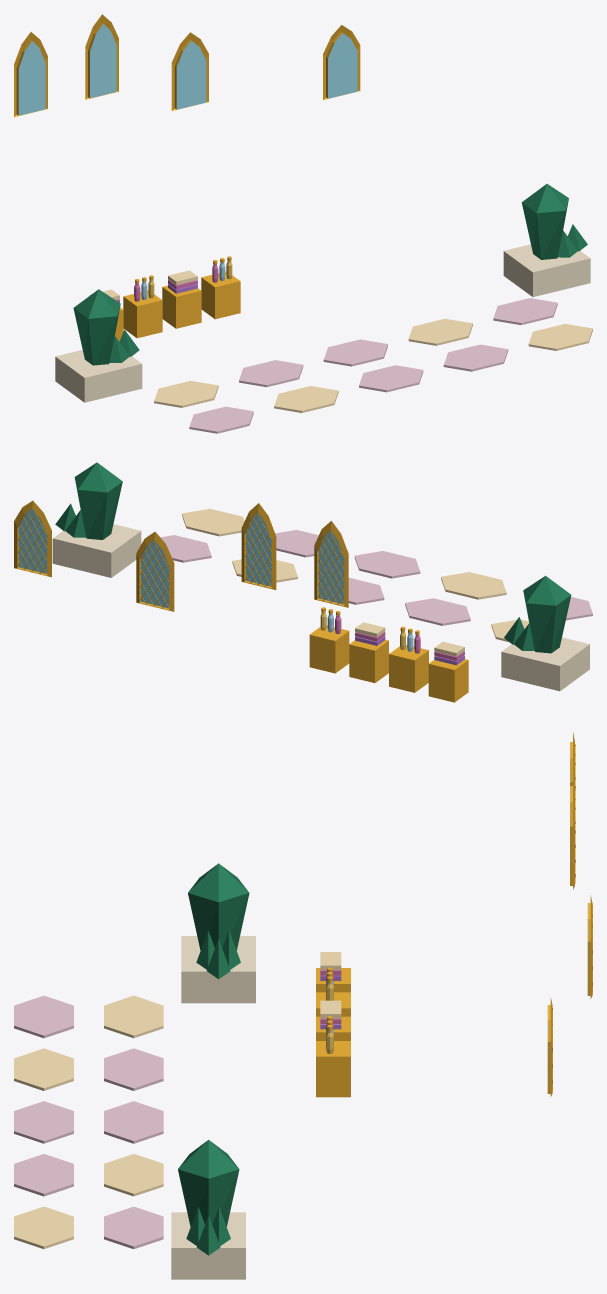
The model's file is decoration.glb.
3 renders of one model, top to bottom at view 1: azimuth 30°, elevation 25°; view 2: azimuth 150°, elevation 25°; view 3: azimuth 270°, elevation 25°, orthographic. The views are drawn at different scales.
Visible parts, largest first — view 1: 20_CanterlotShops_PlantersAndPaving, 20_ComparisonReview_DetailCorrections, 20_CanterlotShops_Topiary, 20_R2C_Shops_IndividualGoodsDisplays; view 2: 20_CanterlotShops_PlantersAndPaving, 20_ComparisonReview_DetailCorrections, 20_R2C_Shops_IndividualGoodsDisplays, 20_CanterlotShops_Topiary; view 3: 20_CanterlotShops_PlantersAndPaving, 20_CanterlotShops_Topiary, 20_R2C_Shops_IndividualGoodsDisplays, 20_ComparisonReview_DetailCorrections.
Part boxes in pixels (box(x1,y1,x2,y2)): 20_CanterlotShops_PlantersAndPaving: box(55, 244, 592, 433); 20_ComparisonReview_DetailCorrections: box(14, 14, 360, 117); 20_CanterlotShops_Topiary: box(73, 184, 587, 365); 20_R2C_Shops_IndividualGoodsDisplays: box(90, 256, 240, 341); 20_CanterlotShops_PlantersAndPaving: box(52, 508, 592, 691); 20_ComparisonReview_DetailCorrections: box(14, 500, 348, 611); 20_R2C_Shops_IndividualGoodsDisplays: box(309, 607, 468, 702); 20_CanterlotShops_Topiary: box(55, 462, 571, 653); 20_CanterlotShops_PlantersAndPaving: box(14, 936, 255, 1279); 20_CanterlotShops_Topiary: box(178, 863, 249, 1255); 20_R2C_Shops_IndividualGoodsDisplays: box(316, 952, 350, 1097); 20_ComparisonReview_DetailCorrections: box(547, 732, 592, 1096).
Size of the model in its own units: 1.52 by 0.66 by 1.16.
